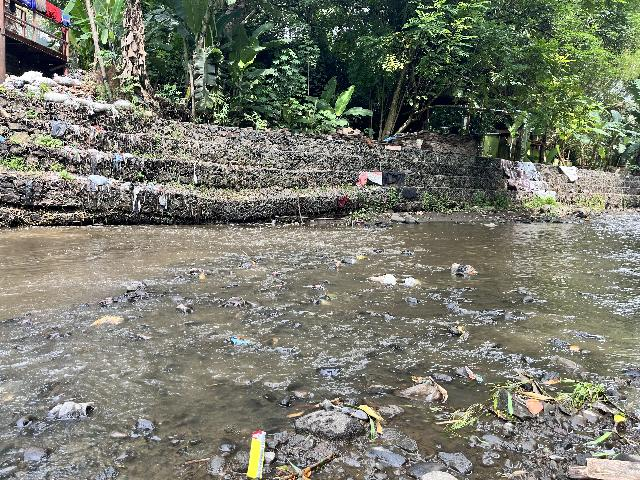Sampah Anorganik: (397, 377, 452, 403), (244, 428, 268, 479), (444, 260, 479, 279), (225, 331, 261, 349), (461, 365, 488, 384), (371, 272, 396, 285), (402, 276, 420, 288), (307, 283, 325, 291), (353, 254, 367, 260), (271, 270, 279, 275), (250, 261, 257, 266)
Sampah Organik: (490, 370, 605, 415), (294, 400, 389, 440), (559, 456, 640, 480), (80, 313, 125, 328), (310, 293, 338, 308), (454, 325, 469, 344), (93, 297, 113, 305), (263, 337, 279, 347), (231, 299, 248, 308), (569, 345, 582, 353), (197, 273, 206, 281), (333, 262, 341, 267)
